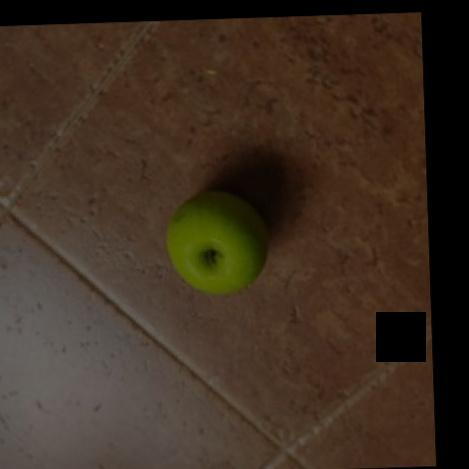green apple: (167, 188, 270, 295)
